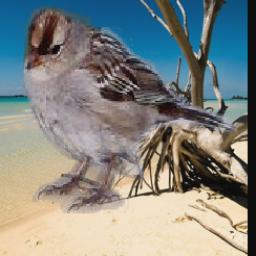Sparrow: (15, 7, 236, 214)
